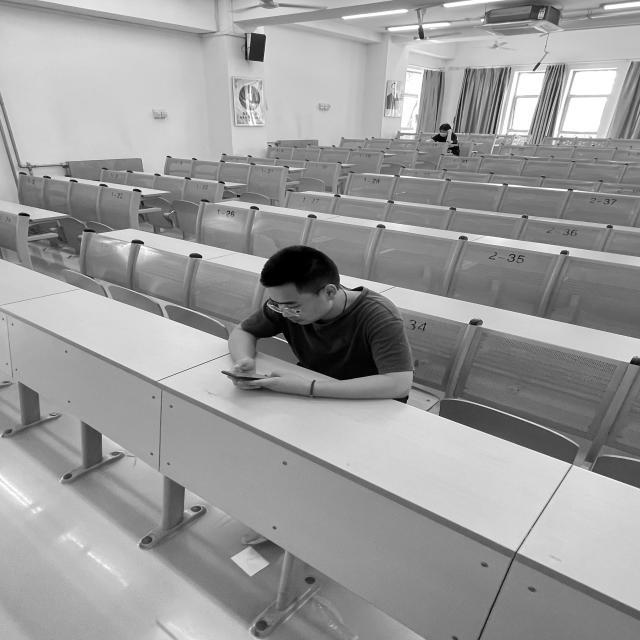phone: (224, 245, 413, 400)
